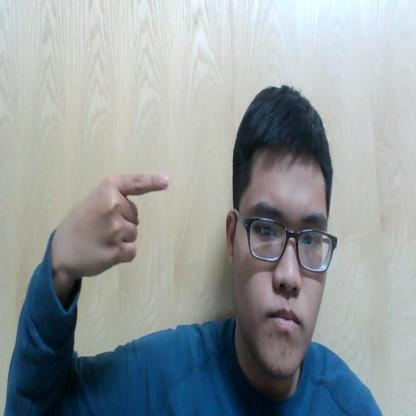left: (70, 166, 175, 286)
